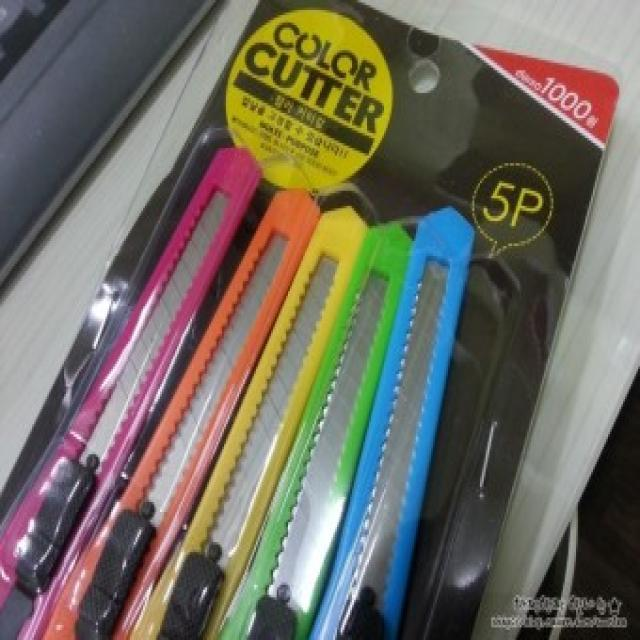cutter: (39, 174, 328, 626), (0, 140, 260, 640), (120, 205, 371, 640), (237, 227, 423, 640), (328, 207, 477, 632)
